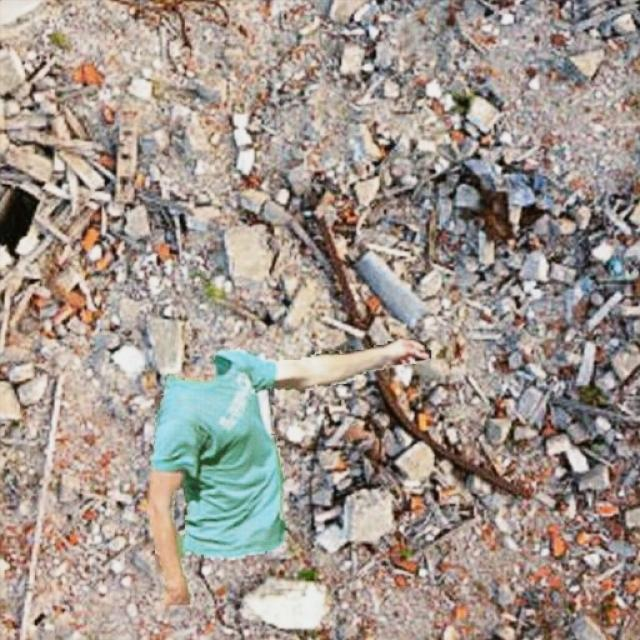Person in Rubble: (145, 338, 430, 604)
